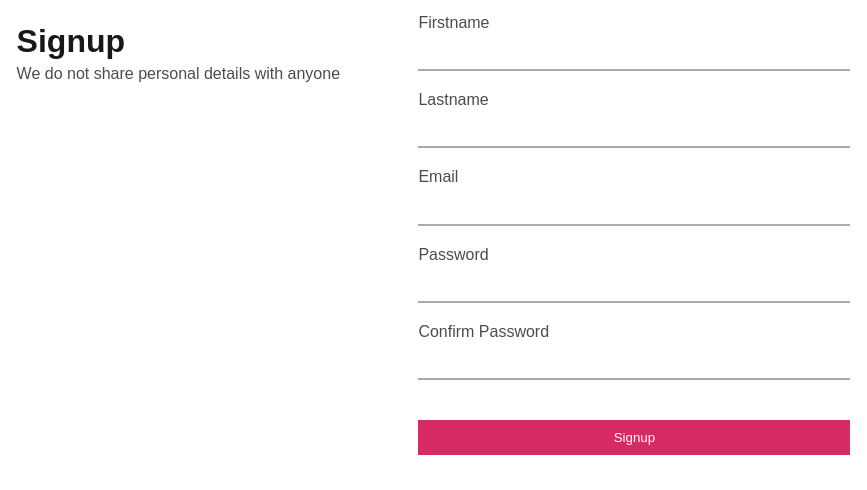
Register component › submits the registration form with valid data
The width and height of the screenshot is (867, 490).
Type "John" into the field named "First Name" at (634, 56), box [418,40,850,71]
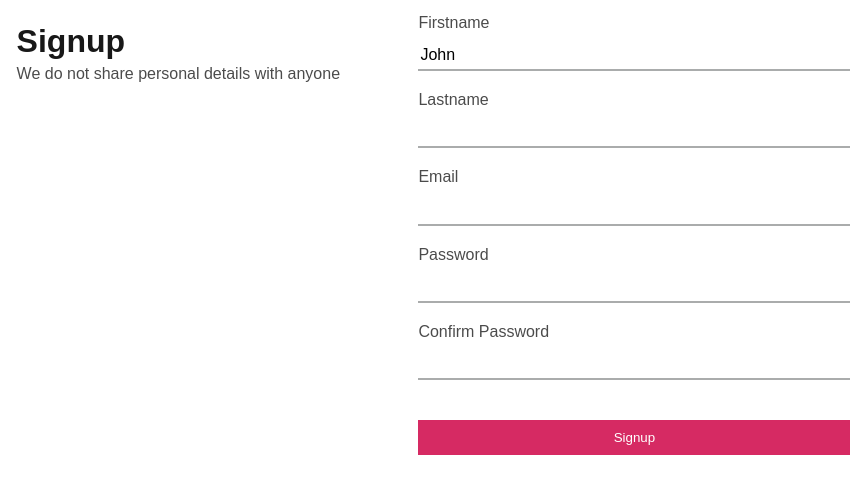
Type "Doe" into the field named "Last Name" at (634, 133), box [418,117,850,148]
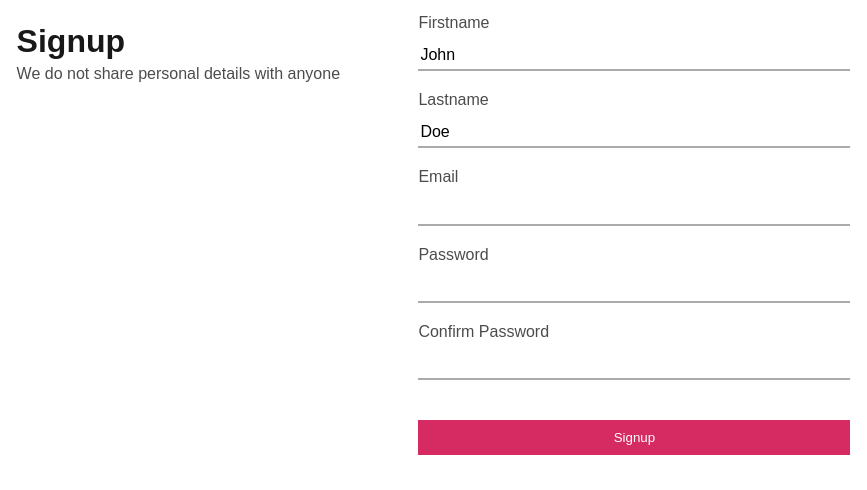
Type "john.doe@example.com" into the field labelled "Email" at (634, 210), box [418,194,850,226]
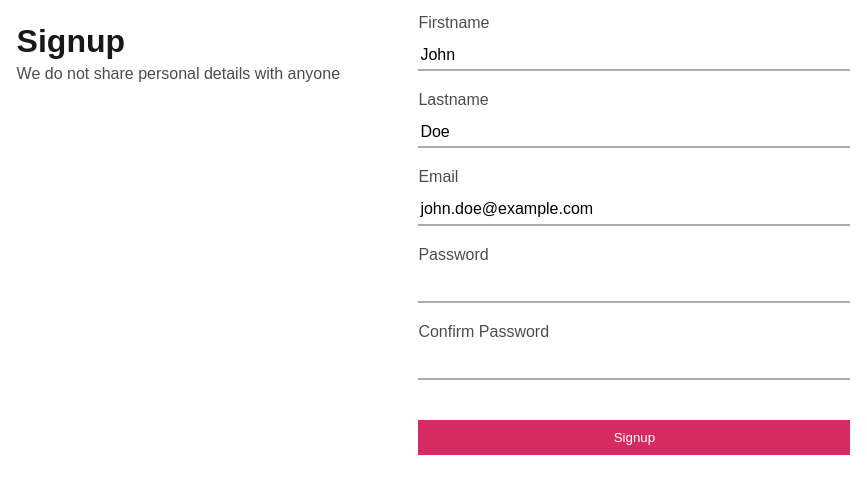
Type "password123" into the password field labelled "Password" at (634, 287), box [418,272,850,303]
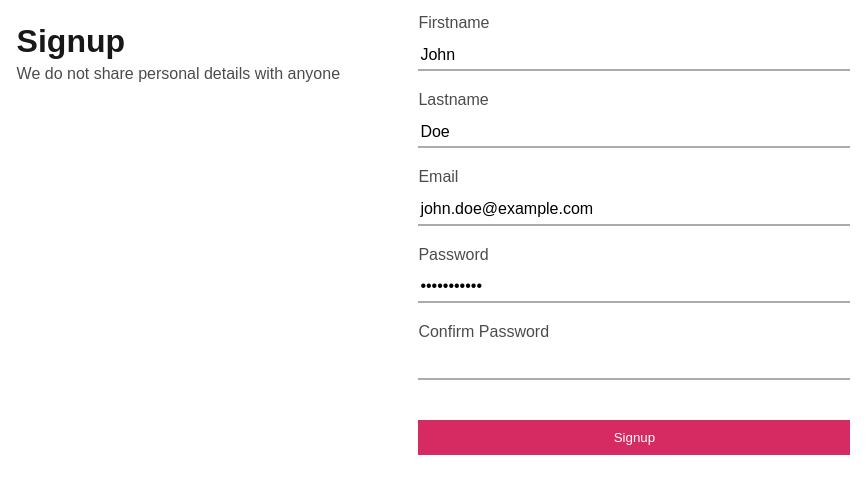
Type "password123" into the password field labelled "Confirm Password" at (634, 364), box [418,349,850,380]
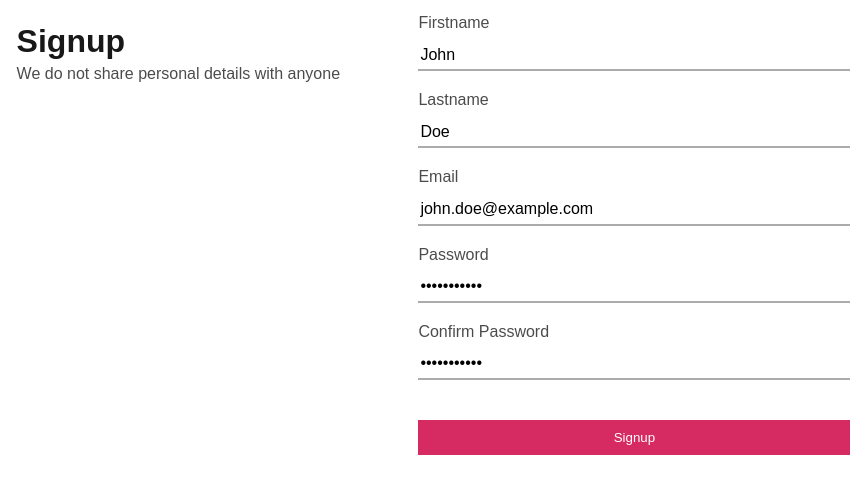
Click the button at (634, 437), box [418,420,850,455]
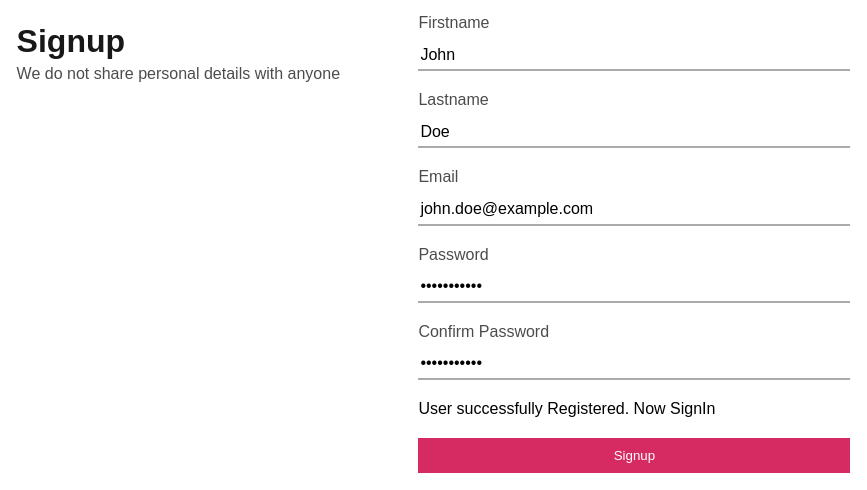
Check: the text "User successfully Registered. Now SignIn" is shown, box [418,400,715,417]
